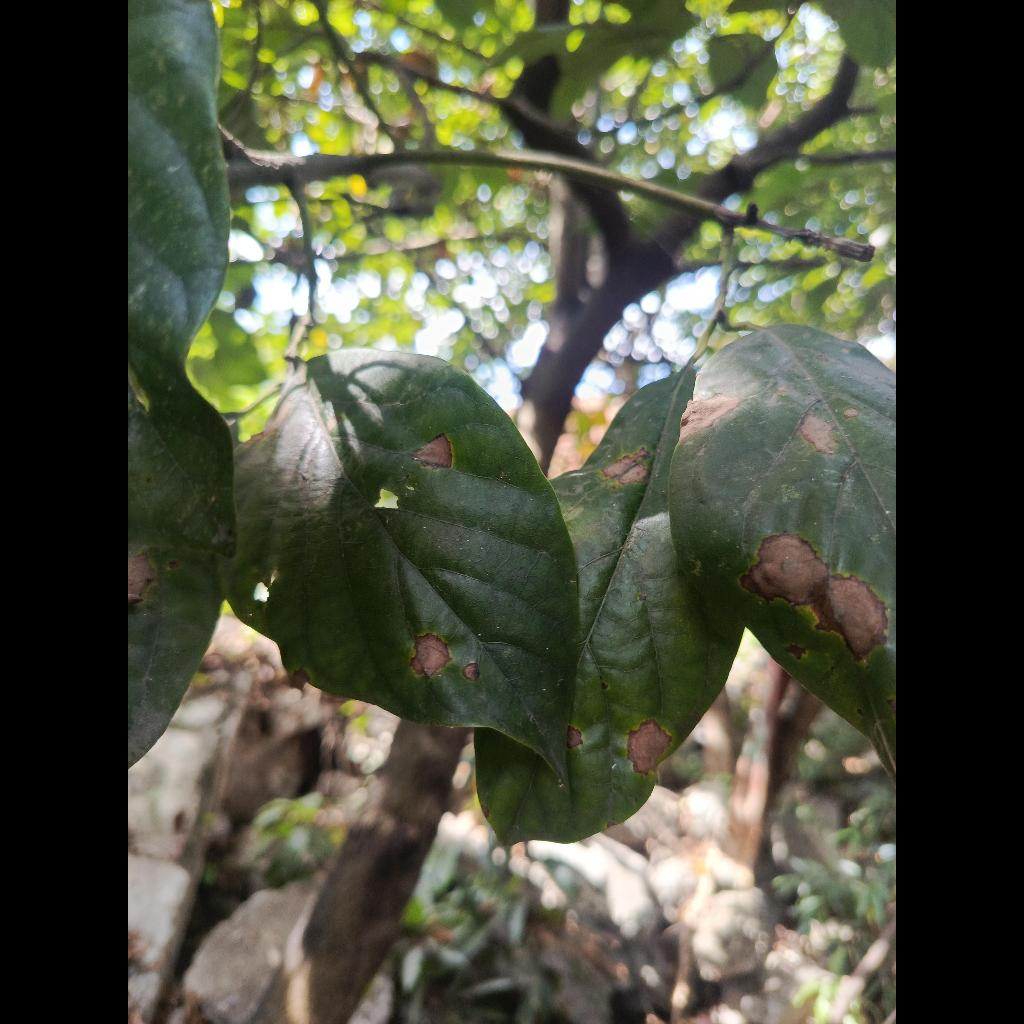Anthracnose: (222, 349, 579, 789), (670, 326, 896, 778)
